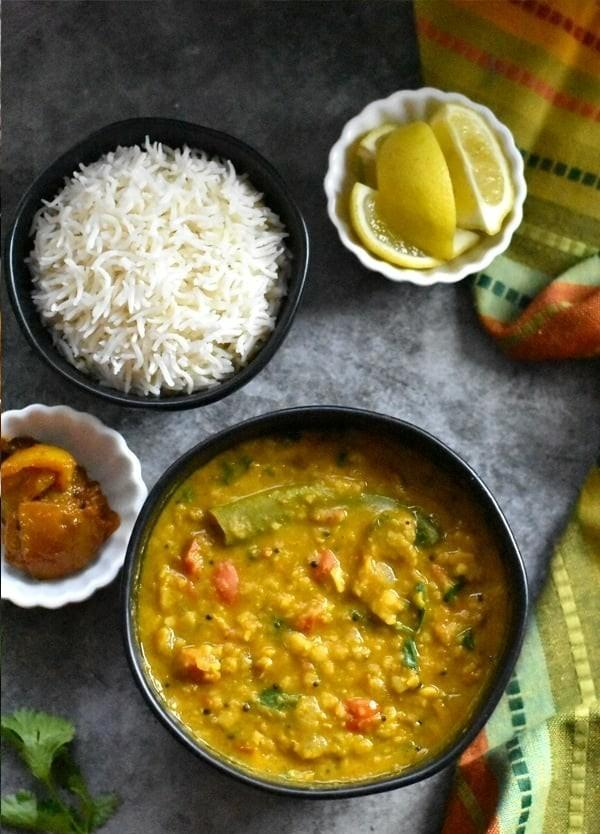Dal: (132, 435, 513, 787)
WhiteRice: (30, 137, 285, 393)
